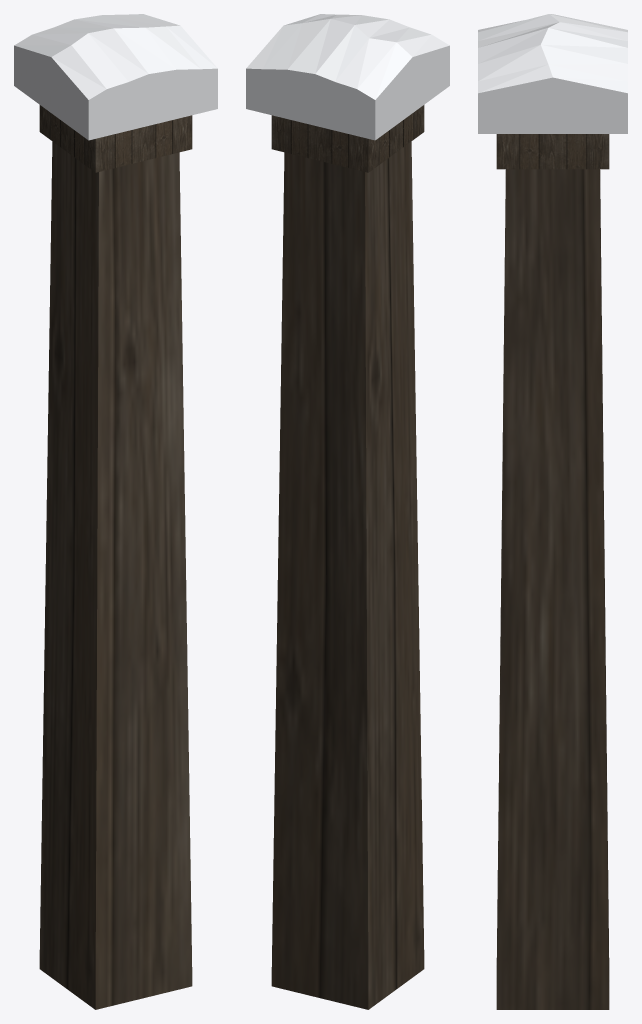
The model's file is fence_post_snow.glb.
The picture shows the model from 3 angles, left to right: view 1: azimuth 30°, elevation 25°; view 2: azimuth 150°, elevation 25°; view 3: azimuth 270°, elevation 25°; orthographic projection.
Visible parts, largest first — view 1: canonical_base, snow_accumulation; view 2: canonical_base, snow_accumulation; view 3: canonical_base, snow_accumulation.
Boxes of the visible parts, x1,y1,x2,y2 form: canonical_base: (39, 105, 192, 1009); snow_accumulation: (14, 14, 217, 140); canonical_base: (271, 105, 424, 1009); snow_accumulation: (246, 14, 449, 140); canonical_base: (496, 134, 609, 1009); snow_accumulation: (478, 14, 627, 133).
Size of the model in its own units: 0.16 by 1.13 by 0.16.
2 materials, 1 textured.
